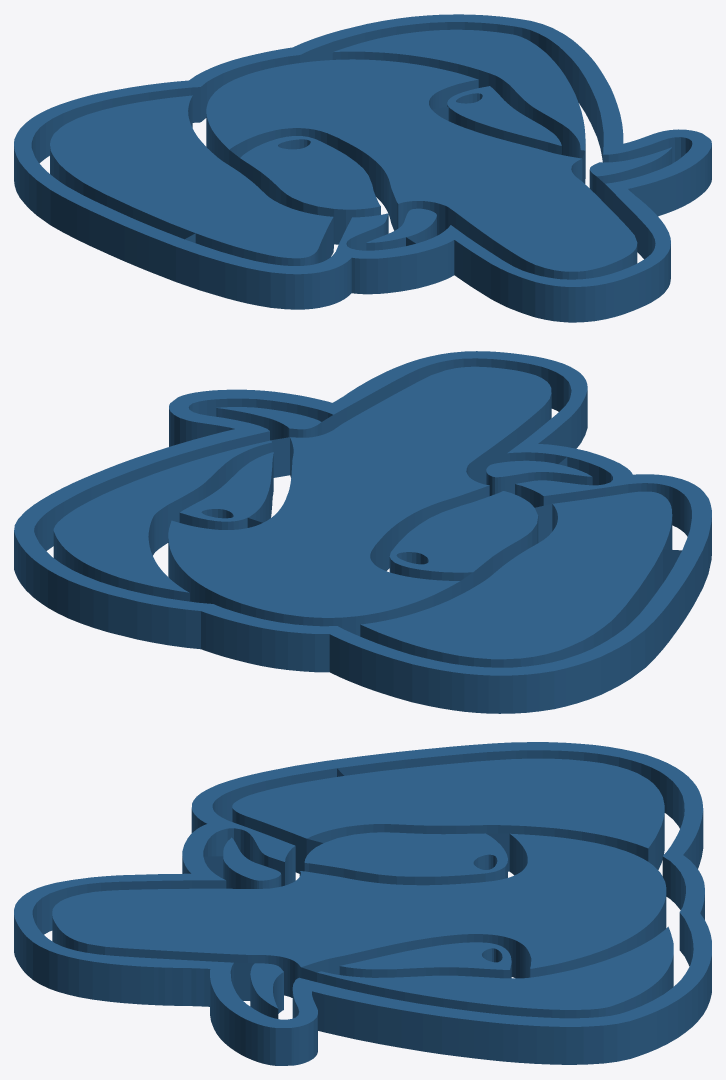
File: postgres.glb
3 views of the same model, one above another, from view 1: azimuth 30°, elevation 25°; view 2: azimuth 150°, elevation 25°; view 3: azimuth 270°, elevation 25° (orthographic). The views are drawn at different scales.
Visible parts, largest first — view 1: Cube; view 2: Cube; view 3: Cube.
Boxes of the visible parts, <box> form: Cube: <box>14,14,711,322</box>; Cube: <box>14,351,711,713</box>; Cube: <box>14,742,711,1065</box>.
Size of the model in its own units: 4.85 by 0.3 by 5.
